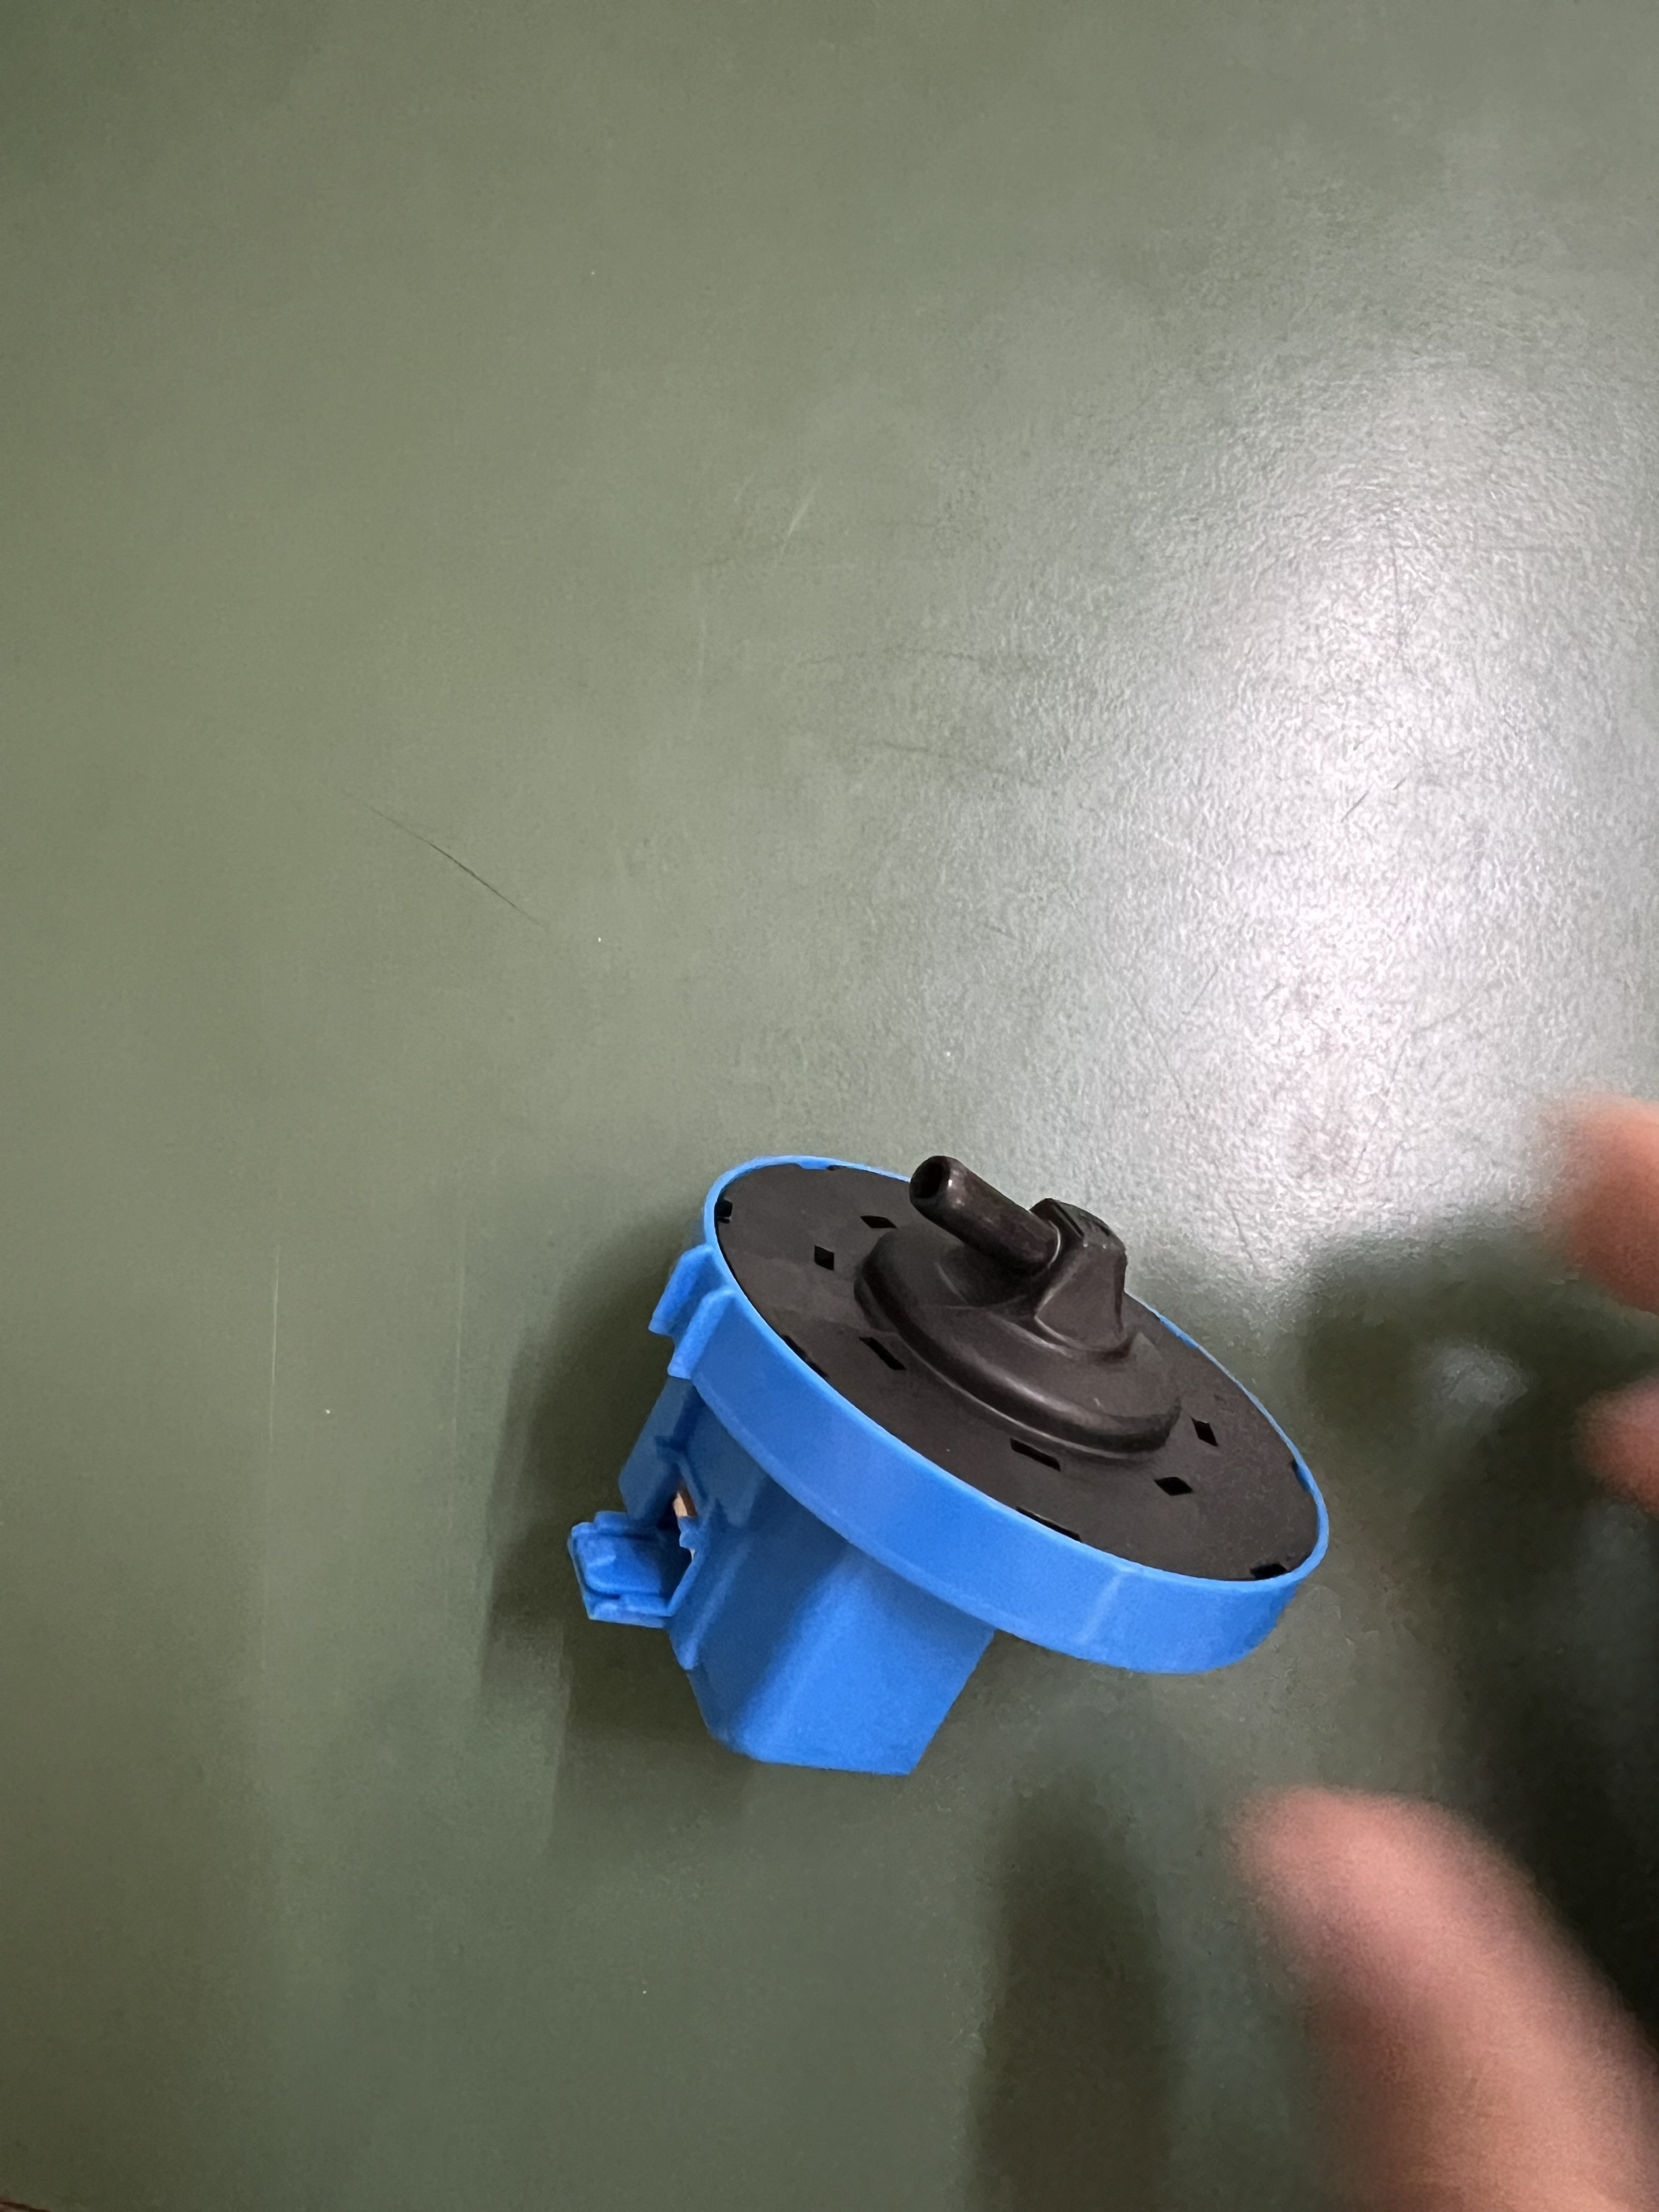voltas_beko_pressure_switch: (531, 1125, 1341, 1825)
